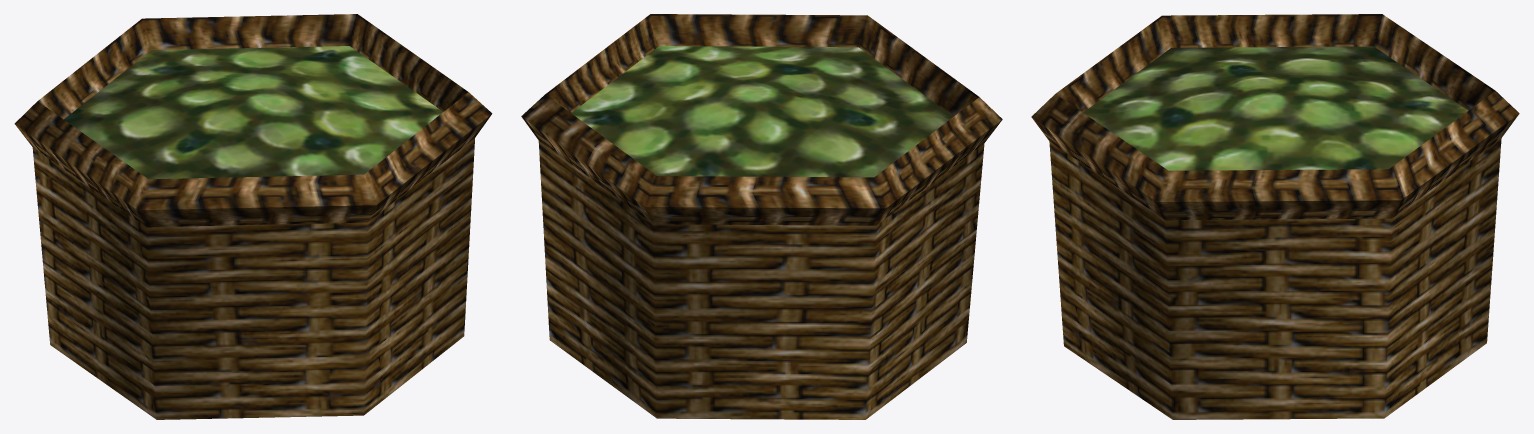
Rendered from Basket03.fbx.
The picture shows the model from 3 angles, left to right: view 1: azimuth 30°, elevation 25°; view 2: azimuth 150°, elevation 25°; view 3: azimuth 270°, elevation 25°; orthographic projection. The views are drawn at different scales.
Visible parts, largest first — view 1: basket03; view 2: basket03; view 3: basket03.
Boxes of the visible parts, x1,y1,x2,y2 form: basket03: (14,14,492,419); basket03: (521,14,1002,419); basket03: (1031,14,1519,419).
Size of the model in its own units: 1.89 by 1.25 by 2.16.
